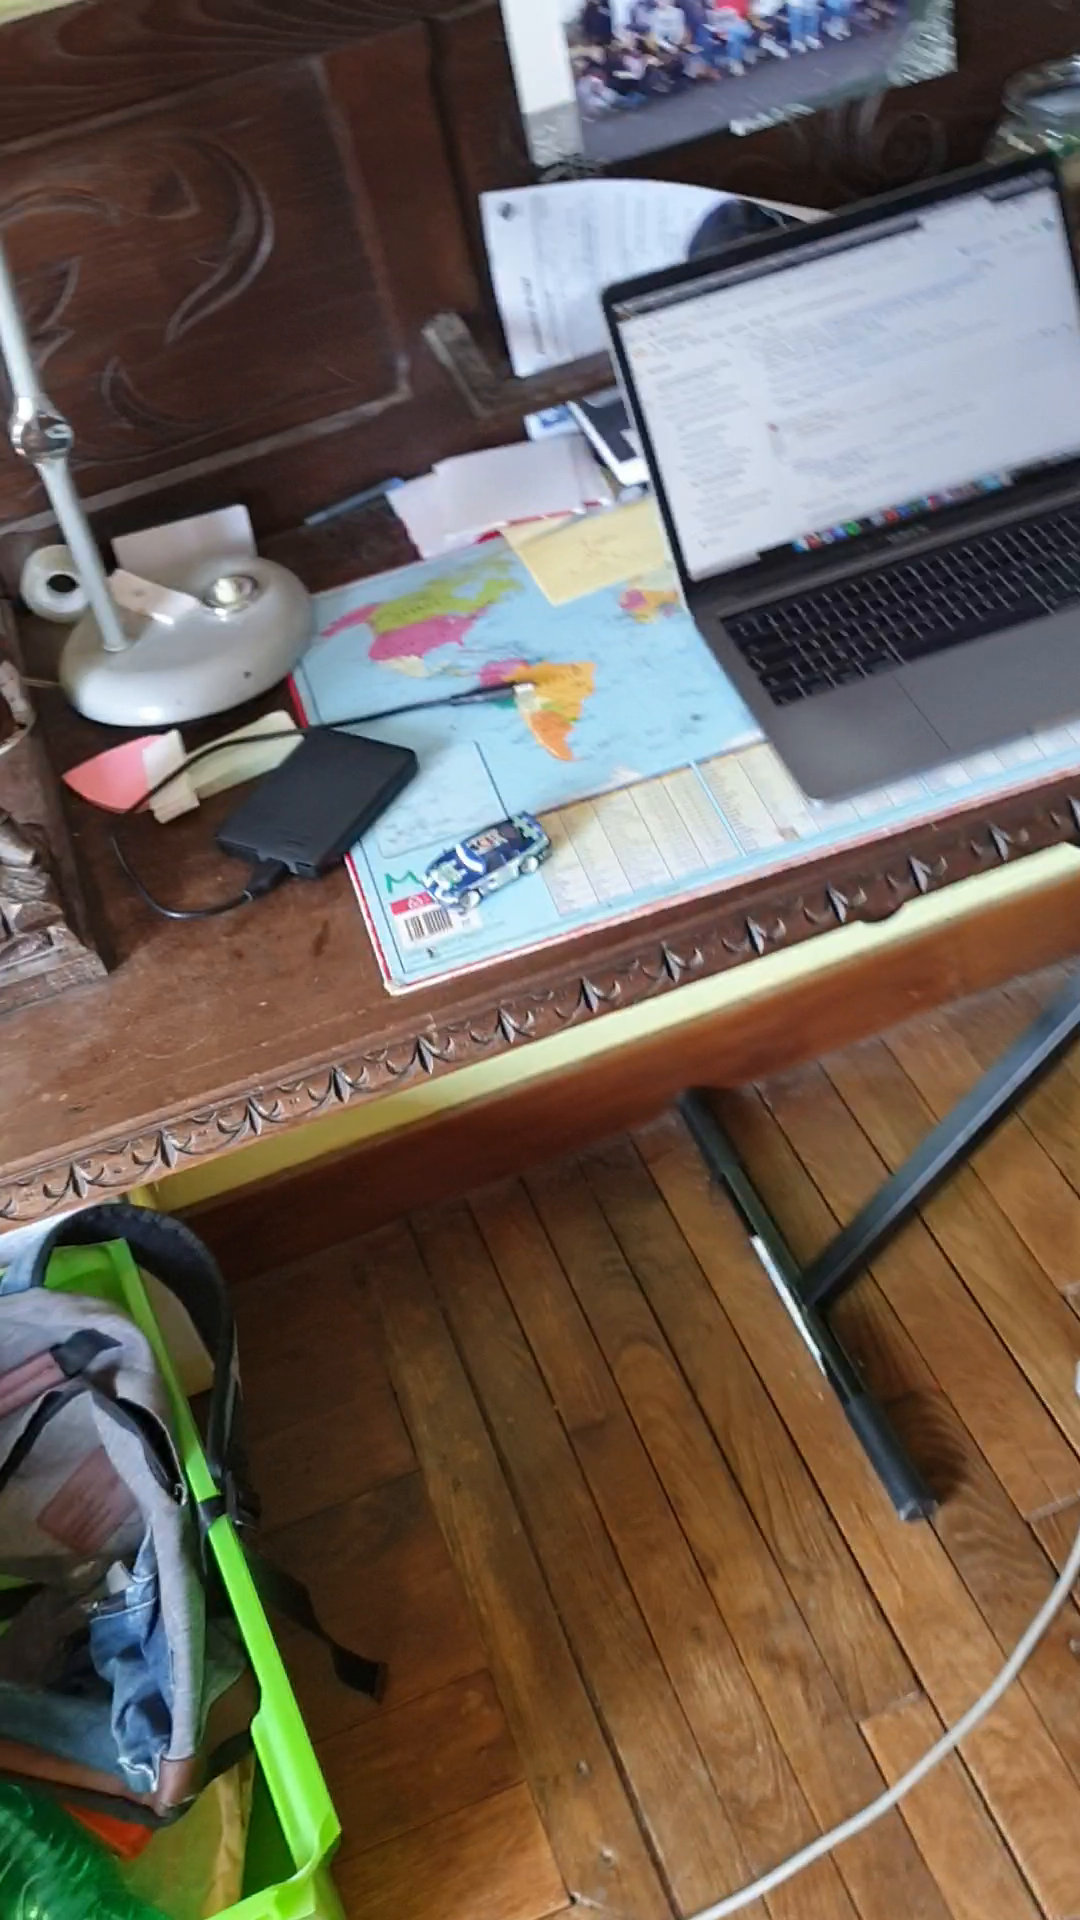cars: (422, 812, 553, 909)
